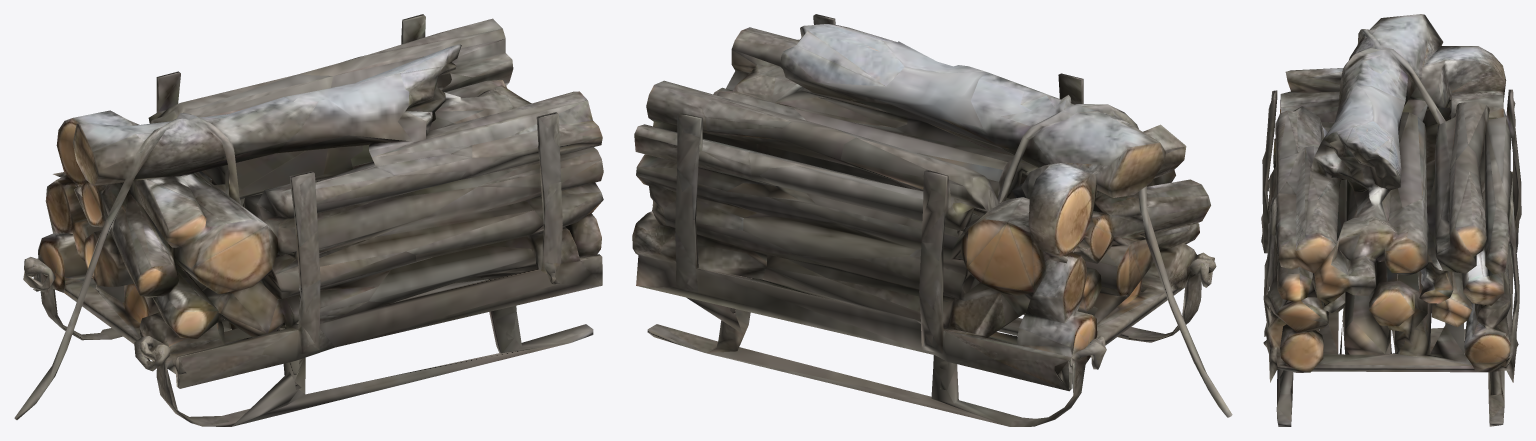
File: sled.glb
3 views of the same model, side by side, from view 1: azimuth 30°, elevation 25°; view 2: azimuth 150°, elevation 25°; view 3: azimuth 270°, elevation 25° (orthographic). The views are drawn at different scales.
Bounding box in the file's own units: 1.9 × 0.9586 × 0.9203.
1 material, 1 textured.
